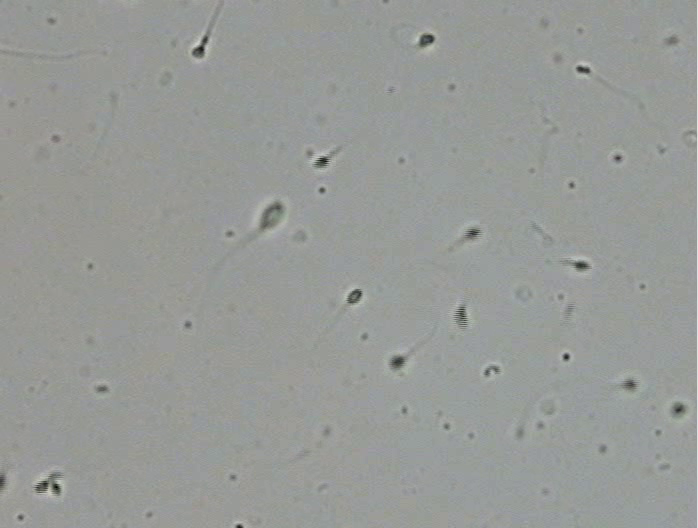S: (259, 200, 286, 229), (453, 306, 469, 331), (389, 355, 406, 370), (346, 289, 363, 304), (572, 260, 592, 272), (464, 226, 481, 240), (312, 156, 329, 169), (34, 480, 49, 494), (419, 34, 435, 47), (622, 379, 638, 391), (672, 403, 685, 417), (192, 46, 205, 58), (575, 65, 591, 74), (51, 482, 61, 496), (1, 472, 6, 491)
